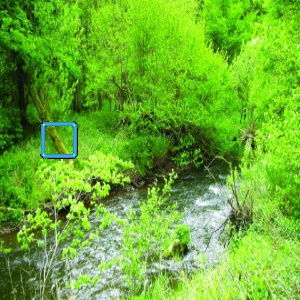square: (38, 117, 81, 162)
